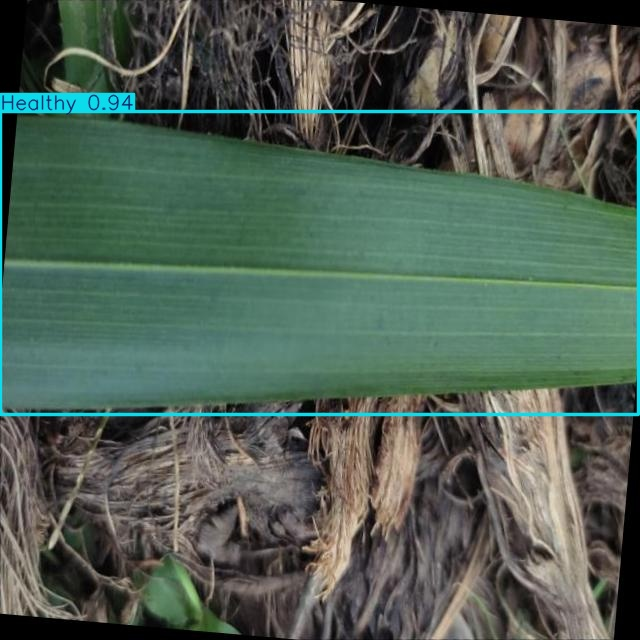Healthy: (1, 111, 639, 415)
